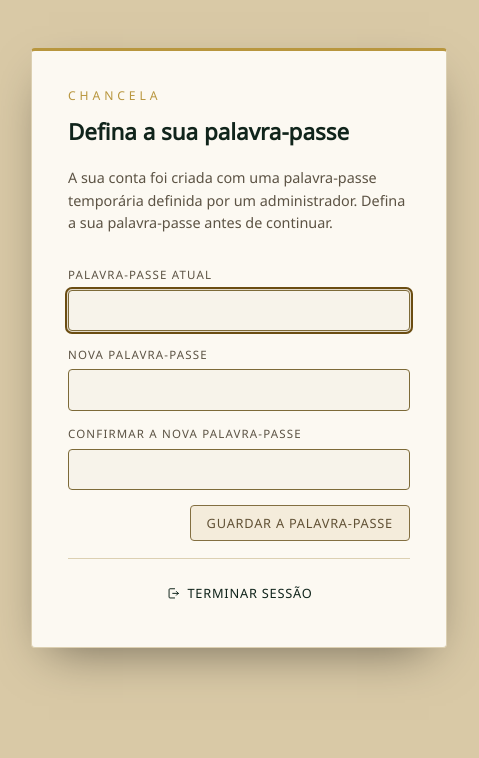
Test: AuthGate — required-action wall (t21) › flags mismatched new passwords inline and does not submit
Expected: the heading "Defina a sua palavra-passe" is shown, x1=68 y1=116 x2=349 y2=147
Note: Everything is filled, so the only thing holding the submit back is the mismatch itself.
Type "temp-Password-1" into the password field labelled "Palavra-passe atual".
click(239, 311); type("temp-Password-1")  # box x1=68 y1=290 x2=410 y2=331
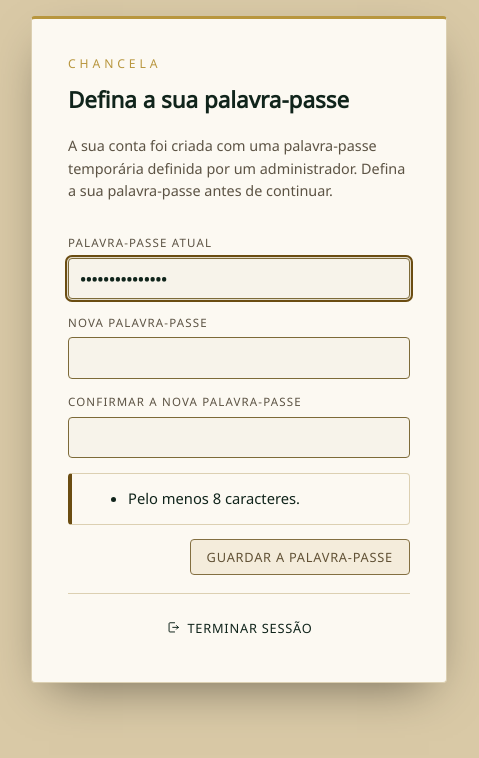
Type "a-strong-new-secret" into the password field labelled "Nova palavra-passe".
click(239, 358); type("a-strong-new-secret")  # box x1=68 y1=337 x2=410 y2=379
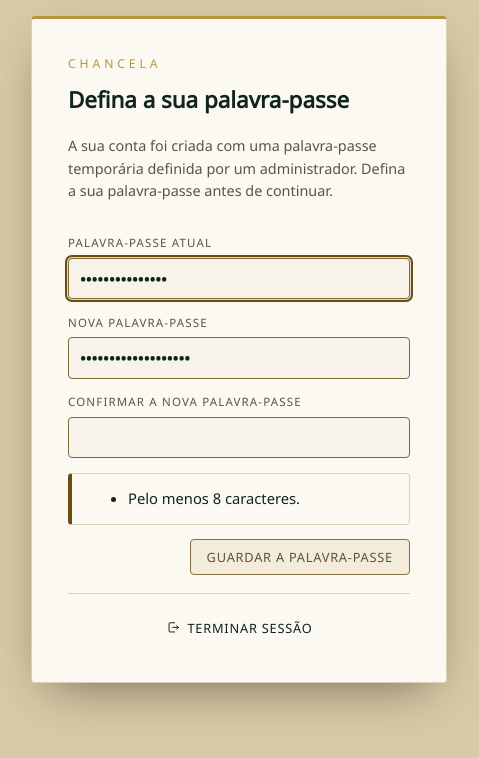
Type "a-different-secret" into the password field labelled "Confirmar a nova palavra-passe".
click(239, 437); type("a-different-secret")  # box x1=68 y1=417 x2=410 y2=458
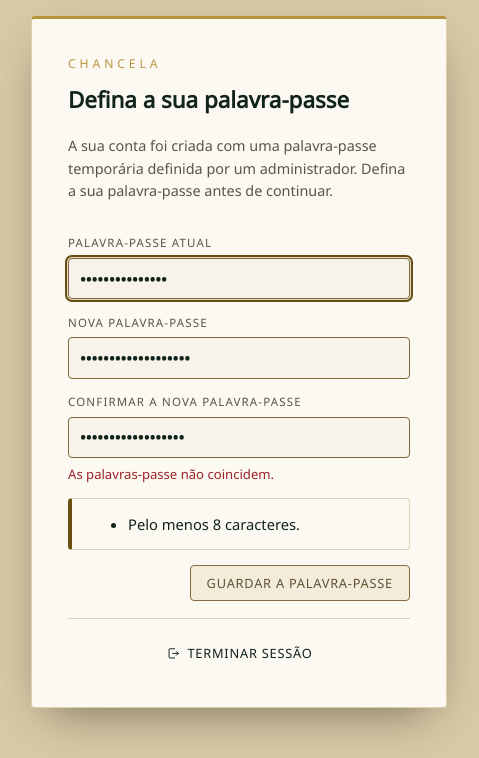
Expected: the button "Guardar a palavra-passe" is disabled, x1=190 y1=565 x2=410 y2=601
Result: the text "As palavras-passe não coincidem." is shown at x1=68 y1=465 x2=274 y2=483
